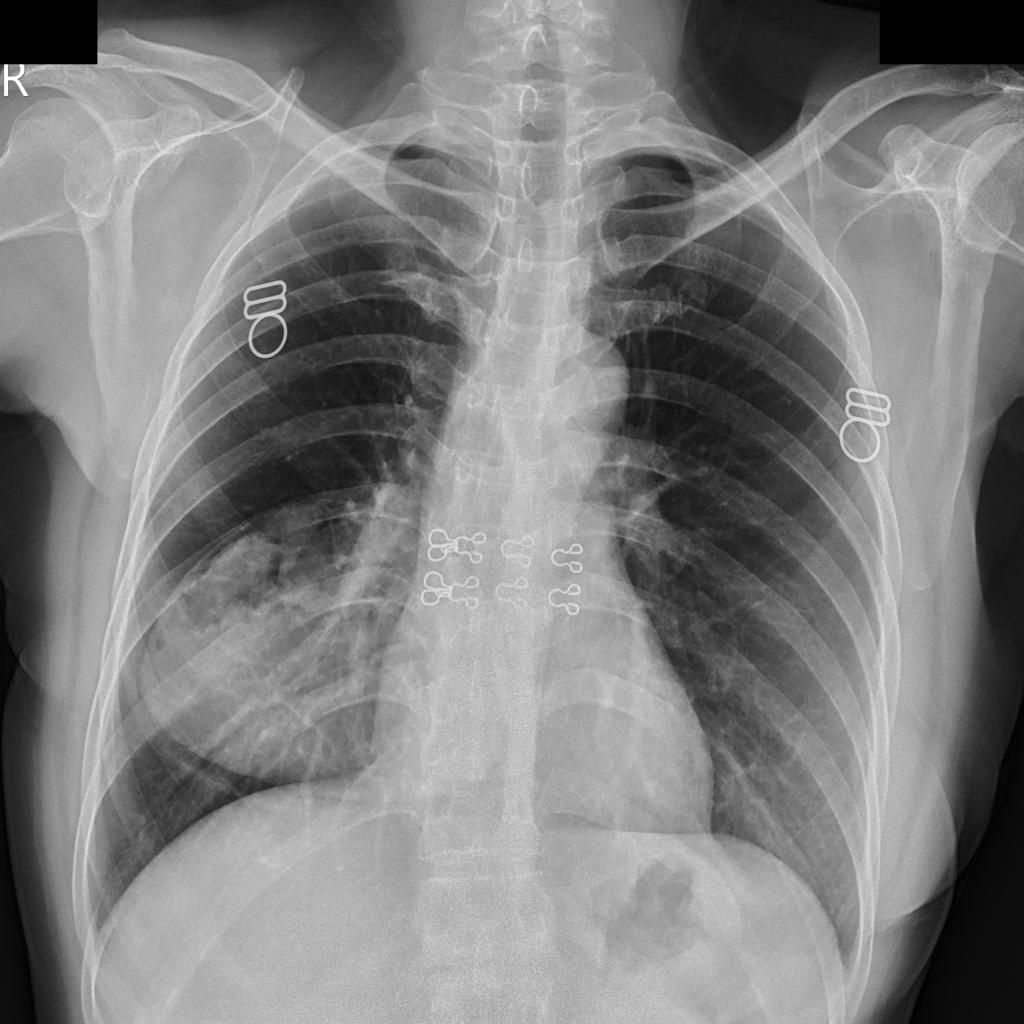Nodule: (134, 545, 373, 792)
